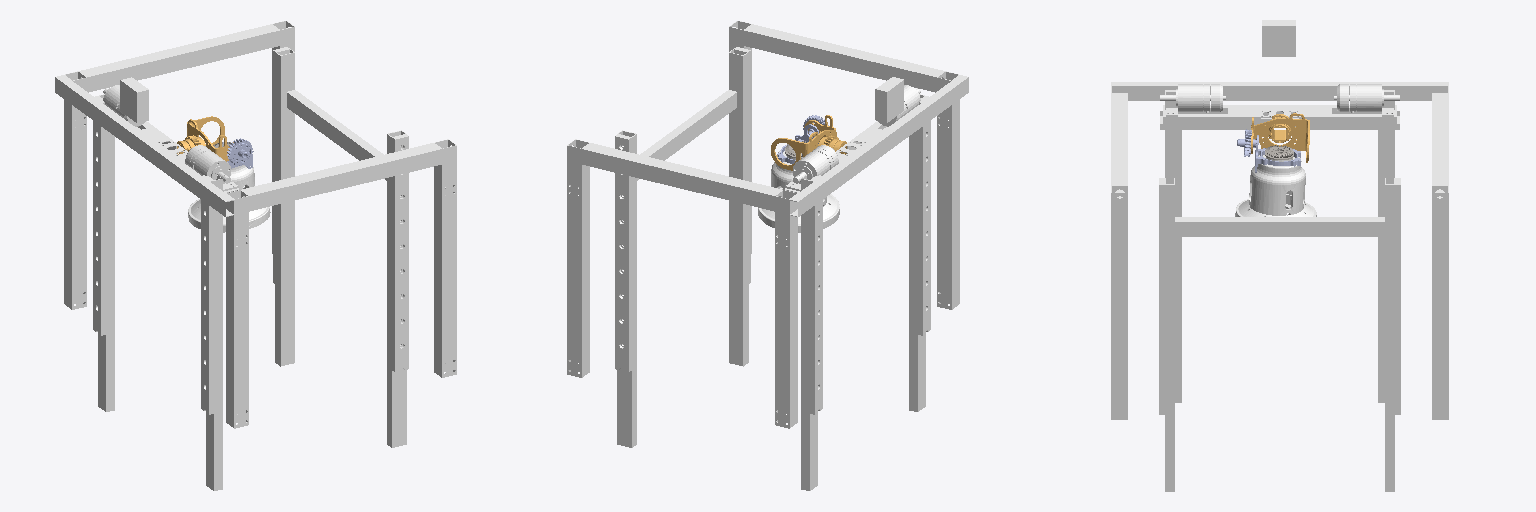
URDF robot description (robot):
<?xml version="1.0" encoding="utf-8" ?>
<!-- This URDF was automatically created by SolidWorks to URDF Exporter! Originally created by [author] ([email redacted]) 
     Commit Version: 1.6.0-4-g7f85cfe  Build Version: 1.6.7995.38578
     For more information, please see http://wiki.ros.org/sw_urdf_exporter -->
<robot name="robot">
    <link name="origin_global">
        <inertial>
            <origin xyz="0 0 0" rpy="0 0 0" />
            <mass value="0.001" />
            <inertia ixx="0" ixy="0" ixz="0" iyy="0" iyz="0" izz="0" />
        </inertial>
    </link>
    <link name="car_lr">
        <inertial>
            <origin xyz="0 0 0" rpy="0 0 0" />
            <mass value="0.001" />
            <inertia ixx="0" ixy="0" ixz="0" iyy="0" iyz="0" izz="0" />
        </inertial>
    </link>
    <joint name="origin_global2car_lr" type="prismatic">
        <origin xyz="-0.044 0 0" rpy="0 0 0" />
        <parent link="origin_global" />
        <child link="car_lr" />
        <axis xyz="0 1 0" />
        <limit lower="-0.5" upper="0.5" effort="0" velocity="3" />
        <dynamics damping="0.1" friction="20"/>
    </joint>
    <link name="car_fb">
        <inertial>
            <origin xyz="0 0 0" rpy="0 0 0" />
            <mass value="0.001" />
            <inertia ixx="0" ixy="0" ixz="0" iyy="0" iyz="0" izz="0" />
        </inertial>
    </link>
    <joint name="car_lr2car_fb" type="prismatic">
        <origin xyz="0 0 0" rpy="0 0 0" />
        <parent link="car_lr" />
        <child link="car_fb" />
        <axis xyz="-1 0 0" />
        <limit lower="0" upper="0" effort="0" velocity="3" />
        <dynamics damping="0.1" friction="20"/>
    </joint>
    <link name="car_yaw">
        <inertial>
            <origin xyz="0 0 0" rpy="0 0 0" />
            <mass value="0.001" />
            <inertia ixx="0" ixy="0" ixz="0" iyy="0" iyz="0" izz="0" />
        </inertial>
    </link>
    <joint name="car_fb2car_yaw" type="revolute">
        <origin xyz="0 0 0" rpy="0 0 0" />
        <parent link="car_fb" />
        <child link="car_yaw" />
        <axis xyz="0.0 0.0 -1.0" />
        <limit lower="0" upper="0" effort="0" velocity="3" />
        <dynamics damping="0.1" friction="20"/>
    </joint>
    <link name="base_link">
        <inertial>
            <origin xyz="0.021509 -1.2254E-10 -0.00040386" rpy="0 0 0" />
            <mass value="1.6891" />
            <inertia ixx="0.0023256" ixy="-1.2261E-08" ixz="-9.0418E-13" iyy="0.0065804" iyz="1.2224E-13" izz="0.005007" />
        </inertial>
        <visual>
            <origin xyz="0 0 0" rpy="0 0 0" />
            <geometry>
                <mesh filename="package://robot_description5/meshes/base_link.STL" />
            </geometry>
            <material name="">
                <color rgba="0.89804 0.91765 0.92941 1" />
            </material>
        </visual>
        <collision>
            <origin xyz="0 0 0" rpy="0 0 0" />
            <geometry>
                <mesh filename="package://robot_description5/meshes/base_link.STL" />
            </geometry>
        </collision>
    </link>
    <joint name="car_yaw2base_link" type="fixed">
        <origin xyz="0 0 0" rpy="0 0 0" />
        <parent link="car_yaw" />
        <child link="base_link" />
        <axis xyz="0 0 0" />
        <dynamics damping="0.1" friction="20"/>
    </joint>
    <link name="ud_fixed">
        <inertial>
            <origin xyz="-0.1611 -0.17 0.041823" rpy="0 0 0" />
            <mass value="0.54105" />
            <inertia ixx="0.0082957" ixy="1.9272E-20" ixz="-1.3866E-08" iyy="0.0081079" iyz="1.3549E-18" izz="0.00023148" />
        </inertial>
        <visual>
            <origin xyz="0 0 0" rpy="0 0 0" />
            <geometry>
                <mesh filename="package://robot_description5/meshes/ud_fixed.STL" />
            </geometry>
            <material name="">
                <color rgba="1 1 1 1" />
            </material>
        </visual>
        <collision>
            <origin xyz="0 0 0" rpy="0 0 0" />
            <geometry>
                <mesh filename="package://robot_description5/meshes/ud_fixed.STL" />
            </geometry>
        </collision>
    </link>
    <joint name="base_link2ud_fixed" type="fixed">
        <origin xyz="0.1817 0.17 0.253" rpy="0 0 0" />
        <parent link="base_link" />
        <child link="ud_fixed" />
        <axis xyz="0 0 0" />
        <dynamics damping="0.1" friction="20"/>
    </joint>
    <link name="ud_move">
        <inertial>
            <origin xyz="-0.21827 -0.249 0.071024" rpy="0 0 0" />
            <mass value="0.001" />
            <inertia ixx="0.0023611" ixy="7.1456E-21" ixz="-1.3757E-20" iyy="0.0021234" iyz="-4.2205E-21" izz="0.0013657" />
        </inertial>
        <visual>
            <origin xyz="0 0 0" rpy="0 0 0" />
            <geometry>
                <mesh filename="package://robot_description5/meshes/ud_move.STL" />
            </geometry>
            <material name="">
                <color rgba="1 1 1 1" />
            </material>
        </visual>
        <collision>
            <origin xyz="0 0 0" rpy="0 0 0" />
            <geometry>
                <mesh filename="package://robot_description5/meshes/ud_move.STL" />
            </geometry>
        </collision>
    </link>
    <joint name="ud_fixed2ud_move" type="prismatic">
        <origin xyz="0.039 0.079 0.07" rpy="0 0 0" />
        <parent link="ud_fixed" />
        <child link="ud_move" />
        <axis xyz="0 0 1" />
        <limit lower="0" upper="0.3" effort="0" velocity="3" />
        <dynamics damping="0.1" friction="20"/>
    </joint>

    <!-- 深度相机位置：udmove的后杆 -->
    <link name="rgbd_camera">
        <visual>
            <origin xyz="0 0 0" rpy="0 0 0" />
            <geometry>
                <box size="0.02 0.05 0.05"/>
            </geometry>
            <material name="">
                <color rgba="1 1 1 1" />
            </material>
        </visual>
        <collision>
            <origin xyz="0 0 0" rpy="0 0 0" />
            <geometry>
                <box size="0.020 0.050 0.060"/>
            </geometry>
        </collision>
        <inertial>
            <mass value="0.001"/>
            <inertia ixx="2.416666666666667e-07" ixy="0" ixz="0" iyy="2.416666666666667e-07" iyz="0" izz="4.1666666666666677e-07"/>
        </inertial>
    </link>
    <joint name="ud_move2rgbd_camera" type="fixed">
        <origin xyz="-0.4 -0.25 0.25" rpy="0 0 0" />
        <parent link="ud_move" />
        <child link="rgbd_camera" />
    </joint>
    <!-- 
    <gazebo reference="rgbd_camera">  
      <sensor type="depth" name="camera">
        <always_on>true</always_on>
        <update_rate>20.0</update_rate>
        <camera>
          <horizontal_fov>1.0472</horizontal_fov>
          <image>
            <format>R8G8B8</format>
            <width>640</width>
            <height>480</height>
          </image>
          <clip>
            <near>0.05</near>
            <far>8.0</far>
          </clip>
        </camera>
        <plugin name="kinect_camera_controller" filename="libgazebo_ros_openni_kinect.so">
          <cameraName>camera_kinect</cameraName>
          <alwaysOn>true</alwaysOn>
          <updateRate>10</updateRate>
          <imageTopicName>rgb/image_raw</imageTopicName>
          <depthImageTopicName>depth/image_raw</depthImageTopicName>
          <pointCloudTopicName>depth/points</pointCloudTopicName>
          <cameraInfoTopicName>rgb/camera_info</cameraInfoTopicName>
          <depthImageCameraInfoTopicName>depth/camera_info</depthImageCameraInfoTopicName>
          <frameName>rgbd_camera_tf</frameName>   
          <baseline>0.1</baseline>
          <distortion_k1>0.0</distortion_k1>
          <distortion_k2>0.0</distortion_k2>
          <distortion_k3>0.0</distortion_k3>
          <distortion_t1>0.0</distortion_t1>
          <distortion_t2>0.0</distortion_t2>
          <pointCloudCutoff>0.4</pointCloudCutoff>
        </plugin>
      </sensor>
    </gazebo> -->

    <link name="fb_move">
        <inertial>
            <origin xyz="-0.16962 -0.185 -0.018823" rpy="0 0 0" />
            <mass value="0.001" />
            <inertia ixx="0.0005007" ixy="-1.1793E-14" ixz="-8.5853E-08" iyy="5.291E-05" iyz="5.0212E-15" izz="0.00050986" />
        </inertial>
        <visual>
            <origin xyz="0 0 0" rpy="0 0 0" />
            <geometry>
                <mesh filename="package://robot_description5/meshes/fb_move.STL" />
            </geometry>
            <material name="">
                <color rgba="1 1 1 1" />
            </material>
        </visual>
        <collision>
            <origin xyz="0 0 0" rpy="0 0 0" />
            <geometry>
                <mesh filename="package://robot_description5/meshes/fb_move.STL" />
            </geometry>
        </collision>
    </link>
    <joint name="ud_move2fb_move" type="prismatic">
        <origin xyz="-0.175 -0.064 0.192" rpy="0 0 0" />
        <parent link="ud_move" />
        <child link="fb_move" />
        <axis xyz="1 0 0" />
        <limit lower="0" upper="0.3" effort="0" velocity="3" />
        <dynamics damping="0.1" friction="20"/>
    </joint>
    <link name="roll_link">
        <inertial>
            <origin xyz="-0.0079761 0.0020985 -0.0010533" rpy="0 0 0" />
            <mass value="0.001" />
            <inertia ixx="8.5742E-05" ixy="-1.1174E-06" ixz="-1.6213E-06" iyy="3.7862E-05" iyz="1.3618E-06" izz="7.7028E-05" />
        </inertial>
        <visual>
            <origin xyz="0 0 0" rpy="0 0 0" />
            <geometry>
                <mesh filename="package://robot_description5/meshes/roll_link.STL" />
            </geometry>
            <material name="">
                <color rgba="1 0.80784 0.49804 1" />
            </material>
        </visual>
        <collision>
            <origin xyz="0 0 0" rpy="0 0 0" />
            <geometry>
                <mesh filename="package://robot_description5/meshes/roll_link.STL" />
            </geometry>
        </collision>
    </link>
    <joint name="fb_move2roll_link" type="revolute">
        <origin xyz="-0.109 -0.185 -0.0445" rpy="0 0 0" />
        <parent link="fb_move" />
        <child link="roll_link" />
        <axis xyz="-1 0 0" />
        <limit lower="-3.14" upper="3.14" effort="0" velocity="3" />
        <dynamics damping="0.1" friction="20"/>
    </joint>
    <link name="pitch_Link">
        <inertial>
            <origin xyz="0.00023863 -0.0036836 -0.0060035" rpy="0 0 0" />
            <mass value="0.001" />
            <inertia ixx="1.5065E-05" ixy="-1.7625E-08" ixz="-3.3721E-07" iyy="1.8379E-05" iyz="1.4059E-07" izz="2.1065E-05" />
        </inertial>
        <visual>
            <origin xyz="0 0 0" rpy="0 0 0" />
            <geometry>
                <mesh filename="package://robot_description5/meshes/pitch_Link.STL" />
            </geometry>
            <material name="">
                <color rgba="0.79216 0.81961 0.93333 1" />
            </material>
        </visual>
        <collision>
            <origin xyz="0 0 0" rpy="0 0 0" />
            <geometry>
                <mesh filename="package://robot_description5/meshes/pitch_Link.STL" />
            </geometry>
        </collision>
    </link>
    <joint name="roll_link2pitch_link" type="revolute">
        <origin xyz="0.035 -0.031956 0.0016682" rpy="0 0 0" />
        <parent link="roll_link" />
        <child link="pitch_Link" />
        <axis xyz="0 -0.99864 0.05213" />
        <limit lower="0" upper="3.14" effort="0" velocity="3" />
        <dynamics damping="0.1" friction="20"/>
    </joint>
    <link name="yaw_Link">
        <inertial>
            <origin xyz="0.00010063 -0.00010565 -0.0020239" rpy="0 0 0" />
            <mass value="0.001" />
            <inertia ixx="3.7305E-06" ixy="-9.4257E-09" ixz="-1.8056E-07" iyy="3.7314E-06" iyz="1.8957E-07" izz="7.3531E-06" />
        </inertial>
        <visual>
            <origin xyz="0 0 0" rpy="0 0 0" />
            <geometry>
                <mesh filename="package://robot_description5/meshes/yaw_Link.STL" />
            </geometry>
            <material name="">
                <color rgba="0.77647 0.75686 0.73725 1" />
            </material>
        </visual>
        <collision>
            <origin xyz="0 0 0" rpy="0 0 0" />
            <geometry>
                <mesh filename="package://robot_description5/meshes/yaw_Link.STL" />
            </geometry>
        </collision>
    </link>
    <joint name="pitch_link2yaw_link" type="revolute">
        <origin xyz="0.00049592 0.031436 -0.011642" rpy="0 0 0" />
        <parent link="pitch_Link" />
        <child link="yaw_Link" />
        <axis xyz="0.049592 -0.052066 -0.99741" />
        <limit lower="-3.14" upper="3.14" effort="0" velocity="3" />
        <dynamics damping="0.1" friction="20"/>
    </joint>
    <link name="hand">
        <inertial>
            <origin xyz="-0.0019754 0.0022643 0.04645" rpy="0 0 0" />
            <mass value="0.001" />
            <inertia ixx="0.00041044" ixy="1.4842E-06" ixz="4.9661E-06" iyy="0.00041247" iyz="-5.0769E-06" izz="0.00031835" />
        </inertial>
        <visual>
            <origin xyz="0 0 0" rpy="0 0 0" />
            <geometry>
                <mesh filename="package://robot_description5/meshes/hand.STL" />
            </geometry>
            <material name="">
                <color rgba="1 1 1 1" />
            </material>
        </visual>
        <collision>
            <origin xyz="0 0 0" rpy="0 0 0" />
            <geometry>
                <mesh filename="package://robot_description5/meshes/hand.STL" />
            </geometry>
        </collision>
    </link>
    <joint name="yaw_link2hand" type="fixed">
        <origin xyz="0.0053559 -0.0056232 -0.10772" rpy="0 0 0" />
        <parent link="yaw_Link" />
        <child link="hand" />
        <axis xyz="0 0 0" />
        <dynamics damping="0.1" friction="20"/>
    </joint>
    <transmission name="trans_origin_global2car_lr">
        <type>transmission_interface/SimpleTransmission</type>
        <joint name="origin_global2car_lr">
            <hardwareInterface>hardware_interface/PositionJointInterface</hardwareInterface>
        </joint>
        <actuator name="origin_global2car_lr_motor">
            <hardwareInterface>hardware_interface/PositionJointInterface</hardwareInterface>
            <mechanicalReduction>1</mechanicalReduction>
        </actuator>
    </transmission>
    <transmission name="trans_car_lr2car_fb">
        <type>transmission_interface/SimpleTransmission</type>
        <joint name="car_lr2car_fb">
            <hardwareInterface>hardware_interface/PositionJointInterface</hardwareInterface>
        </joint>
        <actuator name="car_lr2car_fb_motor">
            <hardwareInterface>hardware_interface/PositionJointInterface</hardwareInterface>
            <mechanicalReduction>1</mechanicalReduction>
        </actuator>
    </transmission>
    <transmission name="trans_car_fb2car_yaw">
        <type>transmission_interface/SimpleTransmission</type>
        <joint name="car_fb2car_yaw">
            <hardwareInterface>hardware_interface/PositionJointInterface</hardwareInterface>
        </joint>
        <actuator name="car_fb2car_yaw_motor">
            <hardwareInterface>hardware_interface/PositionJointInterface</hardwareInterface>
            <mechanicalReduction>1</mechanicalReduction>
        </actuator>
    </transmission>
    <transmission name="trans_ud_fixed2ud_move">
        <type>transmission_interface/SimpleTransmission</type>
        <joint name="ud_fixed2ud_move">
            <hardwareInterface>hardware_interface/PositionJointInterface</hardwareInterface>
        </joint>
        <actuator name="ud_fixed2ud_move_motor">
            <hardwareInterface>hardware_interface/PositionJointInterface</hardwareInterface>
            <mechanicalReduction>1</mechanicalReduction>
        </actuator>
    </transmission>
    <transmission name="trans_ud_move2fb_move">
        <type>transmission_interface/SimpleTransmission</type>
        <joint name="ud_move2fb_move">
            <hardwareInterface>hardware_interface/PositionJointInterface</hardwareInterface>
        </joint>
        <actuator name="ud_move2fb_move_motor">
            <hardwareInterface>hardware_interface/PositionJointInterface</hardwareInterface>
            <mechanicalReduction>1</mechanicalReduction>
        </actuator>
    </transmission>
    <transmission name="trans_fb_move2roll_link">
        <type>transmission_interface/SimpleTransmission</type>
        <joint name="fb_move2roll_link">
            <hardwareInterface>hardware_interface/PositionJointInterface</hardwareInterface>
        </joint>
        <actuator name="fb_move2roll_link_motor">
            <hardwareInterface>hardware_interface/PositionJointInterface</hardwareInterface>
            <mechanicalReduction>1</mechanicalReduction>
        </actuator>
    </transmission>
    <transmission name="trans_roll_link2pitch_link">
        <type>transmission_interface/SimpleTransmission</type>
        <joint name="roll_link2pitch_link">
            <hardwareInterface>hardware_interface/PositionJointInterface</hardwareInterface>
        </joint>
        <actuator name="roll_link2pitch_link_motor">
            <hardwareInterface>hardware_interface/PositionJointInterface</hardwareInterface>
            <mechanicalReduction>1</mechanicalReduction>
        </actuator>
    </transmission>
    <transmission name="trans_pitch_link2yaw_link">
        <type>transmission_interface/SimpleTransmission</type>
        <joint name="pitch_link2yaw_link">
            <hardwareInterface>hardware_interface/PositionJointInterface</hardwareInterface>
        </joint>
        <actuator name="pitch_link2yaw_link_motor">
            <hardwareInterface>hardware_interface/PositionJointInterface</hardwareInterface>
            <mechanicalReduction>1</mechanicalReduction>
        </actuator>
    </transmission>
    <gazebo>
        <plugin name="gazebo_ros_control" filename="libgazebo_ros_control.so">
            <robotNamespace>/</robotNamespace>
        </plugin>
    </gazebo>

    <link name="base_footprint"/>
    <joint name="footprint2origin_global" type="fixed">
        <parent link="base_footprint" />
        <child link="origin_global" />
        <origin rpy="0 0 0" xyz="0 0 0.1" />
        <axis xyz="0 0 0" />
    </joint>

    <!-- 加入世界坐标系，使其固定 -->
    <link name="world"/>
	<joint name="world2base_footprint" type="fixed">
 		 <parent link="world"/>
		 <child link="base_footprint"/>
	</joint>
</robot>

--- What the picture shows (computed from the rendered views, not written in the file) ---
Views: 3 orthographic renders of the robot side by side, from view 1: azimuth 30°, elevation 25°; view 2: azimuth 150°, elevation 25°; view 3: azimuth 270°, elevation 25°.
Robot: robot — 15 links, 14 joints (4 revolute, 4 prismatic, 6 fixed); root link world; default pose: all joints at 0.
Visible links, largest first — view 1: ud_move, ud_fixed, fb_move, hand, rgbd_camera, roll_link, pitch_Link; view 2: ud_move, ud_fixed, fb_move, roll_link, hand, rgbd_camera; view 3: ud_fixed, ud_move, fb_move, hand, roll_link, rgbd_camera, pitch_Link.
Link boxes in pixels (<box>): ud_move: <box>55,21,456,428</box>; ud_fixed: <box>93,47,408,490</box>; fb_move: <box>103,85,239,192</box>; hand: <box>188,165,270,232</box>; rgbd_camera: <box>120,77,148,123</box>; roll_link: <box>177,116,233,161</box>; pitch_Link: <box>223,138,253,168</box>; ud_move: <box>567,21,968,428</box>; ud_fixed: <box>615,47,930,490</box>; fb_move: <box>784,85,920,192</box>; roll_link: <box>771,115,846,170</box>; hand: <box>758,150,839,232</box>; rgbd_camera: <box>875,77,903,122</box>; ud_fixed: <box>1159,90,1400,491</box>; ud_move: <box>1111,82,1448,419</box>; fb_move: <box>1160,84,1399,129</box>; hand: <box>1235,155,1316,216</box>; roll_link: <box>1251,113,1309,162</box>; rgbd_camera: <box>1262,20,1295,56</box>; pitch_Link: <box>1237,129,1300,172</box>.
Size in the robot's own frame: 0.41 by 0.498 by 0.595 metres.
7 mesh visuals loaded from 8 distinct referenced files (7 binary STL); not drawn: 1 (reference not matched to a file when rendering).
